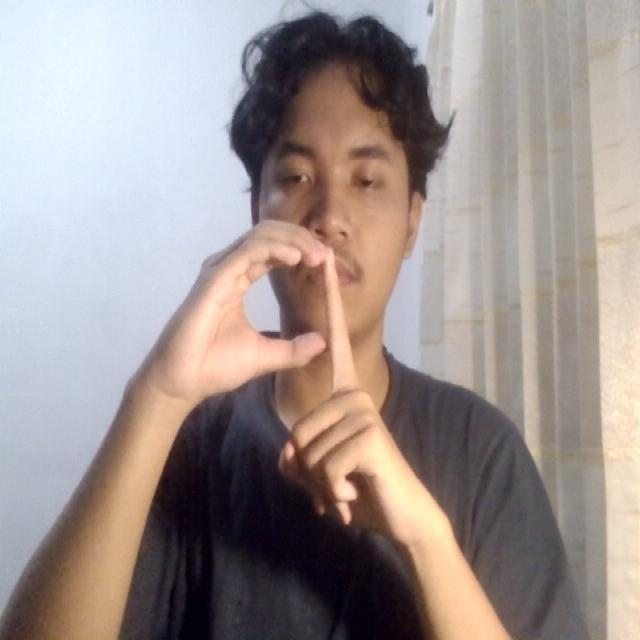D: (178, 211, 429, 557)
